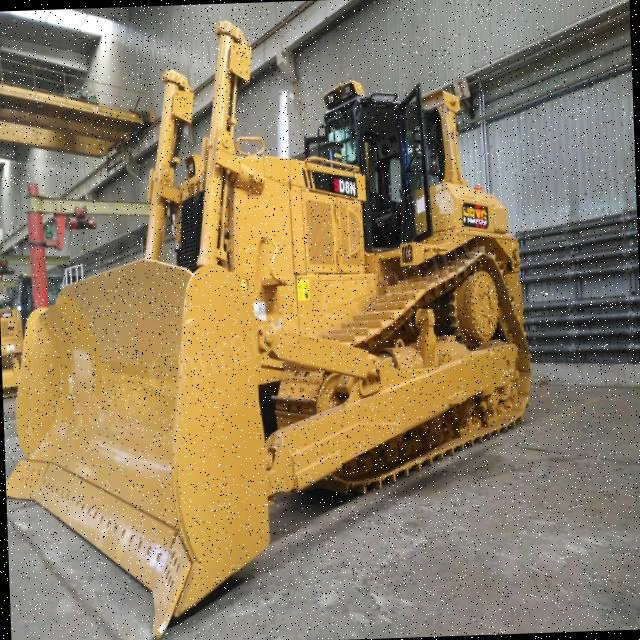Bulldozer: (0, 10, 575, 640)
